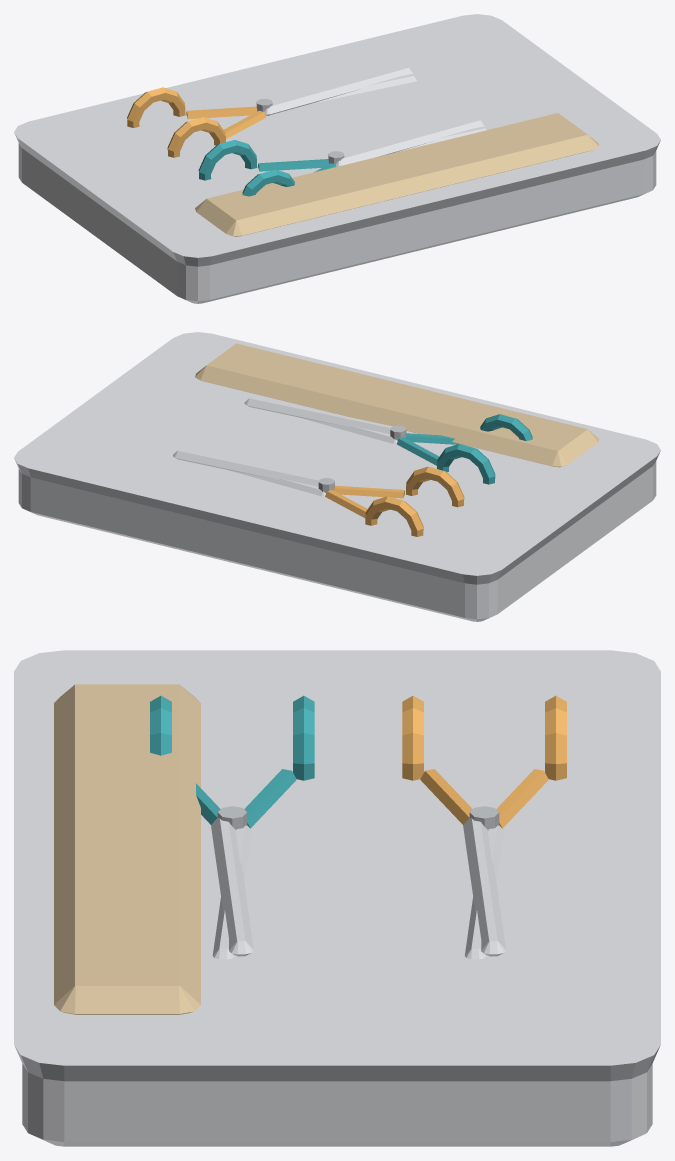
File: pet-shop-and-grooming-salon-grooming-scissors-roll-e6502c1d__34596.glb
The picture shows the model from 3 angles, top to bottom: view 1: azimuth 30°, elevation 25°; view 2: azimuth 150°, elevation 25°; view 3: azimuth 270°, elevation 25°; orthographic projection. The views are drawn at different scales.
Visible parts, largest first — view 1: grooming-scissors-roll; view 2: grooming-scissors-roll; view 3: grooming-scissors-roll.
Part boxes in pixels (box(x1,y1,x2,y2)): grooming-scissors-roll: box(14, 14, 660, 303); grooming-scissors-roll: box(14, 332, 660, 621); grooming-scissors-roll: box(14, 650, 660, 1146).
Size of the model in its own units: 0.468 by 0.0783 by 0.308.
